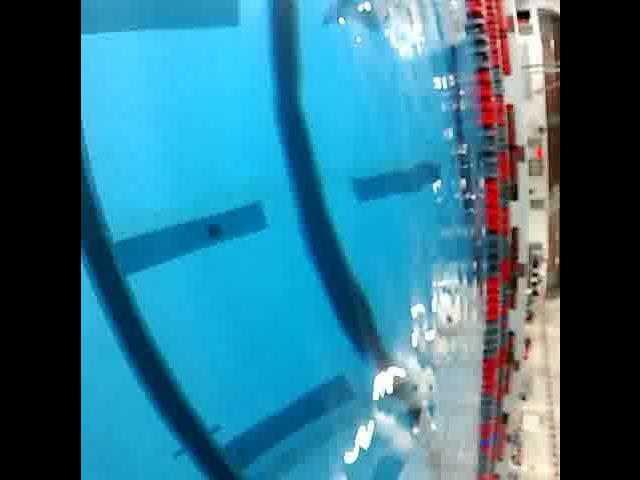Bottle: (420, 0, 468, 51)
